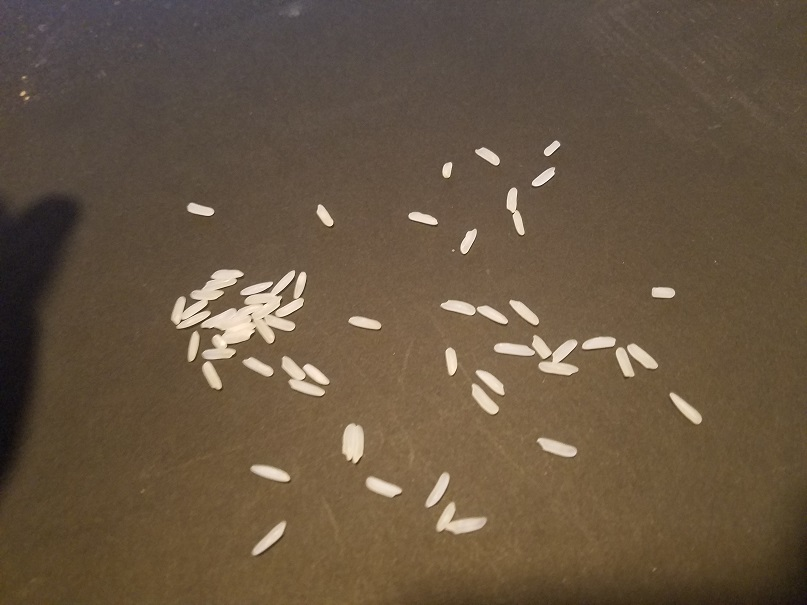egg: (250, 517, 290, 558), (667, 389, 705, 426), (362, 475, 405, 502), (625, 340, 661, 371), (441, 514, 488, 537), (424, 470, 452, 508), (247, 462, 293, 485), (468, 382, 500, 415), (473, 366, 508, 396), (536, 436, 578, 460), (432, 501, 460, 536), (613, 344, 638, 383), (536, 357, 581, 378), (508, 297, 541, 325), (346, 308, 386, 331), (454, 225, 480, 260), (438, 293, 475, 317), (173, 309, 213, 331), (286, 378, 329, 398), (240, 354, 278, 376), (199, 359, 225, 391), (177, 295, 211, 319), (201, 305, 237, 327), (474, 302, 506, 326), (302, 362, 332, 387), (273, 296, 306, 318), (550, 337, 580, 361), (472, 142, 502, 166), (219, 314, 250, 336), (271, 268, 297, 294), (241, 279, 276, 298), (528, 166, 558, 188), (166, 293, 187, 324), (280, 353, 305, 379), (262, 313, 298, 331), (353, 422, 367, 467), (577, 333, 619, 348), (492, 339, 534, 354), (222, 327, 257, 345), (313, 203, 337, 229), (528, 333, 551, 360), (255, 296, 283, 318), (405, 209, 440, 226), (508, 208, 528, 237), (442, 346, 459, 380), (183, 202, 217, 219), (341, 424, 355, 465), (503, 182, 521, 213), (292, 270, 310, 299), (254, 319, 274, 345), (184, 330, 199, 364), (187, 286, 223, 300), (197, 347, 238, 359), (214, 312, 246, 327), (201, 275, 237, 288), (541, 137, 562, 159), (208, 266, 245, 278), (648, 284, 677, 299), (246, 292, 279, 304), (438, 159, 454, 183), (209, 331, 228, 346)
